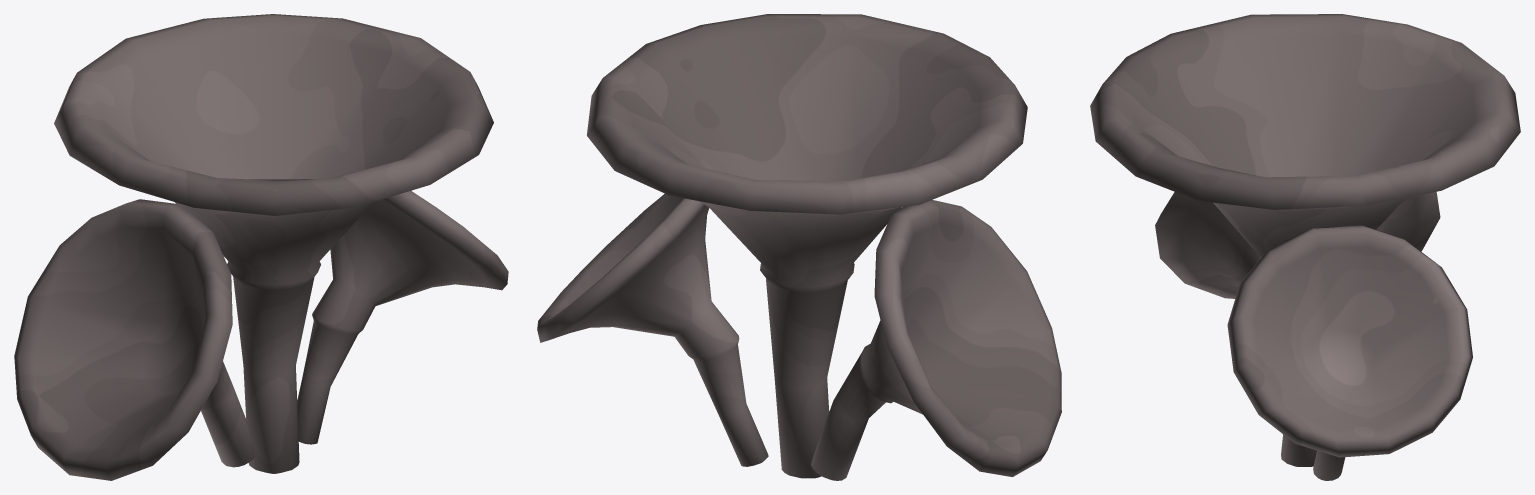
The model's file is Mantar3.fbx.
3 views of the same model, side by side, from view 1: azimuth 30°, elevation 25°; view 2: azimuth 150°, elevation 25°; view 3: azimuth 270°, elevation 25° (orthographic). The views are drawn at different scales.
Visible parts, largest first — view 1: mantar_3.001; view 2: mantar_3.001; view 3: mantar_3.001.
Part boxes in pixels (left/top/right/bottom): mantar_3.001: left=14, top=14, right=508, bottom=480; mantar_3.001: left=537, top=14, right=1061, bottom=480; mantar_3.001: left=1090, top=14, right=1520, bottom=480.
Size of the model in its own units: 38.71 by 29.71 by 31.98.
1 material, 1 textured.
